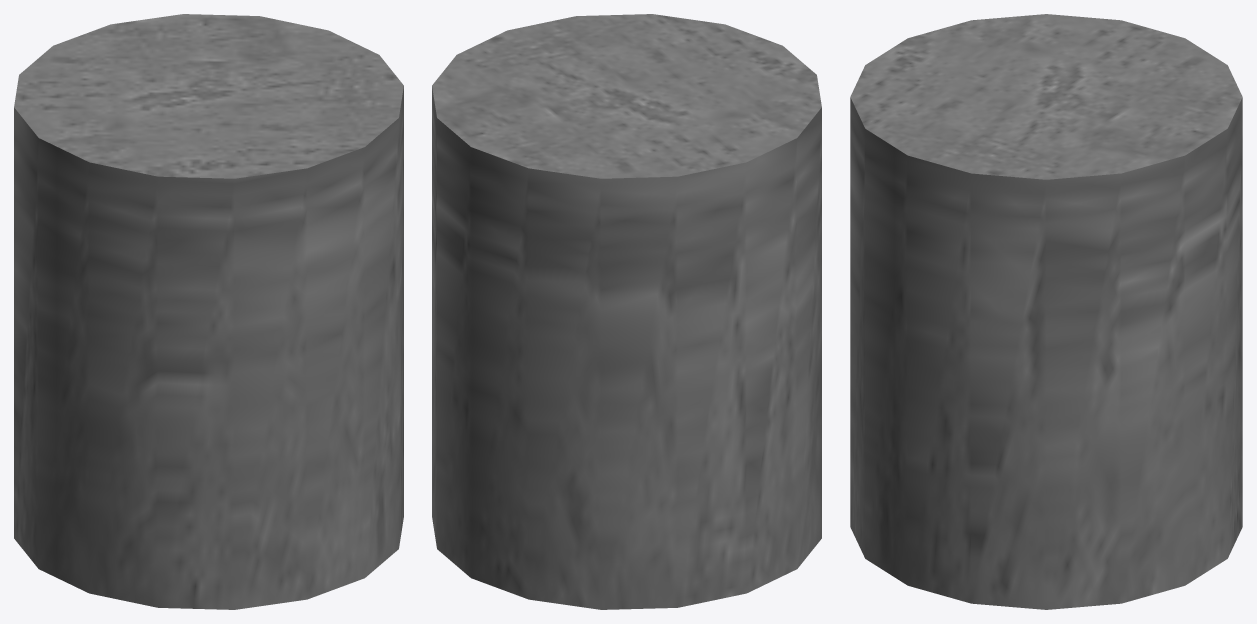
File: icub_l_hip_2.dae
3 renders of one model, left to right at view 1: azimuth 30°, elevation 25°; view 2: azimuth 150°, elevation 25°; view 3: azimuth 270°, elevation 25°, orthographic.
Visible parts, largest first — view 1: l_hip_2_mesh; view 2: l_hip_2_mesh; view 3: l_hip_2_mesh.
Boxes of the visible parts, box(x1,y1,x2,y2) form: l_hip_2_mesh: box(14, 14, 403, 609); l_hip_2_mesh: box(432, 14, 821, 609); l_hip_2_mesh: box(850, 14, 1242, 609).
Bounding box in the file's own units: 0.062 × 0.062 × 0.075.
1 material, 1 textured.
